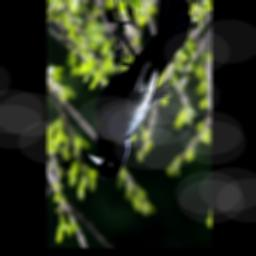Crow: (87, 0, 191, 182)
